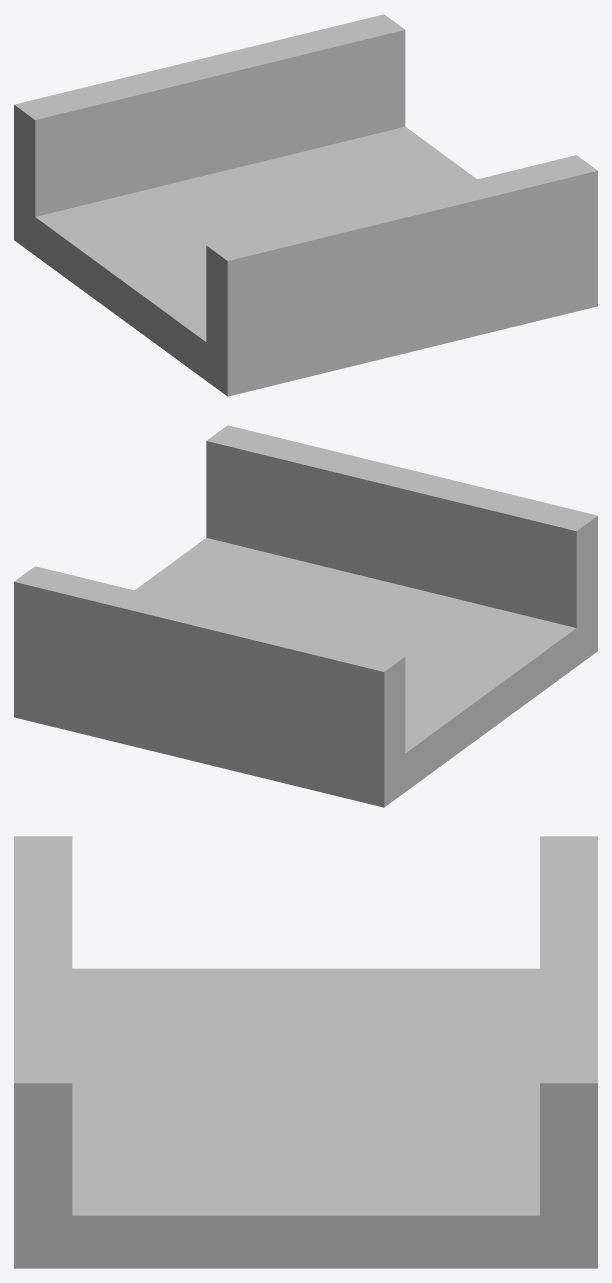
File: MetalRoof_2Edges_Small.glb
3 renders of one model, top to bottom at view 1: azimuth 30°, elevation 25°; view 2: azimuth 150°, elevation 25°; view 3: azimuth 270°, elevation 25°, orthographic. The views are drawn at different scales.
Visible parts, largest first — view 1: roof_flat_2Edges_small_metal; view 2: roof_flat_2Edges_small_metal; view 3: roof_flat_2Edges_small_metal.
Part boxes in pixels (x1,y1,x2,y2): roof_flat_2Edges_small_metal: [14, 14, 597, 396]; roof_flat_2Edges_small_metal: [14, 425, 597, 807]; roof_flat_2Edges_small_metal: [14, 836, 597, 1268].
Size of what is drawn, in the model's own units: 2 by 0.7 by 2.
Materials: 1 (1 with a texture image).
